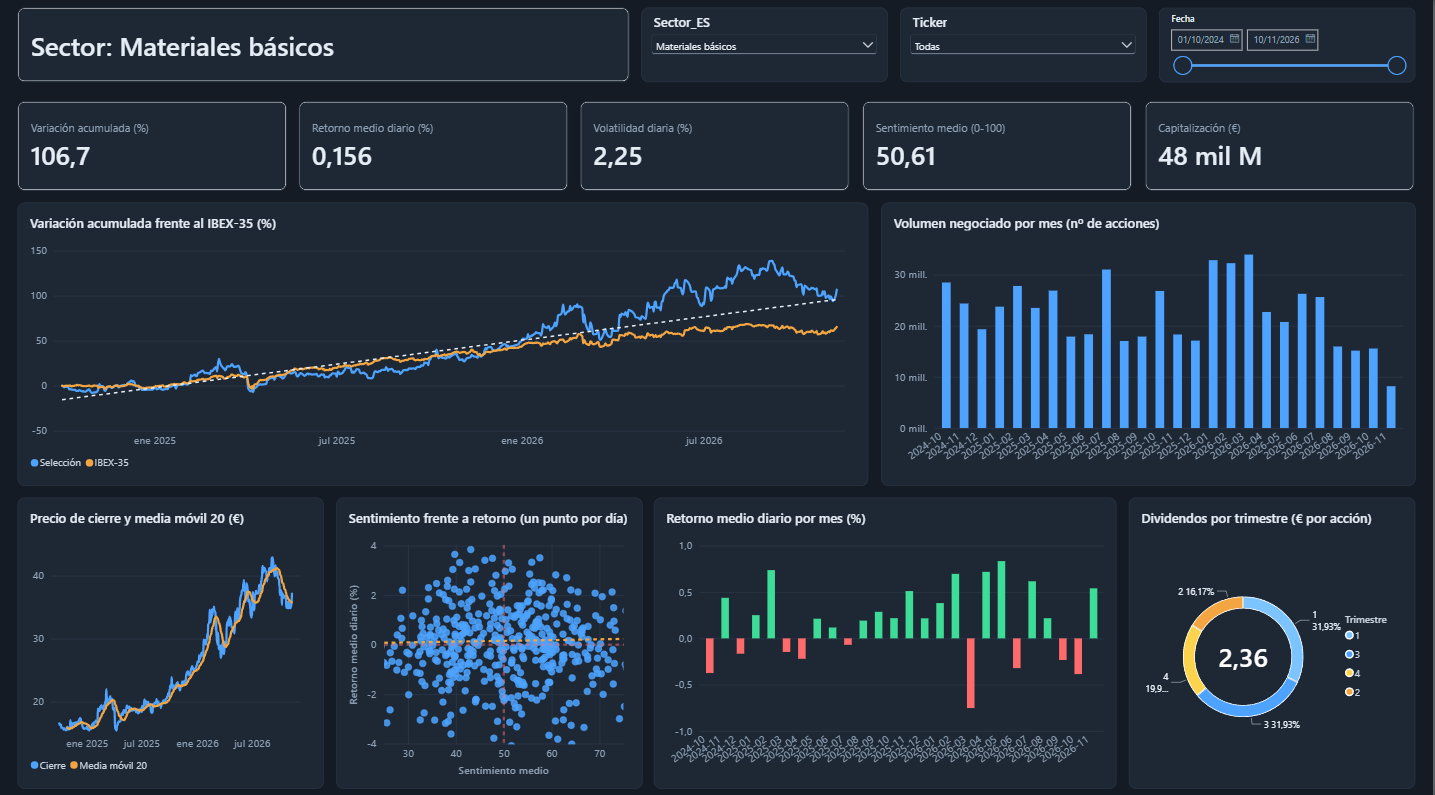

Layout of this report page (visuals, bound fields, positions):
{"tool":"powerbi","page":{"name":"Dashboard","canvas":[1920,1080],"ordinal":3},"visuals":[{"type":"slicer","fields":{"Values":["Empresa.Sector_ES"]},"box":[753.5,31.4,280.8,68],"z":0},{"type":"slicer","fields":{"Values":["Empresa.Ticker"]},"box":[1055.2,26.2,280.8,80.2],"z":1000},{"type":"slicer","fields":{"Values":["Fecha.Fecha"]},"box":[1360.5,19.2,280.8,95.9],"z":2000},{"type":"cardVisual","fields":{"Data":["Hechos.Variacion Acumulada"]},"box":[36.6,115.1,218,174.4],"z":3000},{"type":"cardVisual","fields":{"Data":["Hechos.Retorno Medio Diario"]},"box":[375,115.1,218,174.4],"z":4000},{"type":"cardVisual","fields":{"Data":["Hechos.Volatilidad Diaria"]},"box":[741.3,115.1,218,174.4],"z":5000},{"type":"cardVisual","fields":{"Data":["Hechos.Sentimiento Medio"]},"box":[1088.4,115.1,218,174.4],"z":6000},{"type":"cardVisual","fields":{"Data":["Hechos.Capitalizacion Total"]},"box":[1447.7,115.1,218,174.4],"z":7000},{"type":"lineChart","fields":{"Category":["Fecha.Fecha"],"Y":["Hechos.Var Acum Seleccion","Hechos.Var Acum IBEX"]},"box":[43.6,314,1058.7,376.7],"z":8000},{"type":"clusteredColumnChart","fields":{"Category":["Fecha.AnioMes"],"Y":["Sum(Hechos.Volume)"]},"box":[1133.7,314,736,376.7],"z":9000},{"type":"lineChart","fields":{"Category":["Fecha.Fecha"],"Y":["Avg(Hechos.Close)","Avg(Hechos.Media_Movil_20)"]},"box":[66.3,711.6,395.9,322.7],"z":10000},{"type":"scatterChart","fields":{"Category":["Fecha.Fecha"],"X":["Hechos.Sentimiento Medio"],"Y":["Hechos.Retorno Medio Diario"]},"box":[462.2,711.6,444.8,322.7],"z":11000},{"type":"clusteredColumnChart","fields":{"Category":["Fecha.AnioMes"],"Y":["Hechos.Retorno Medio Diario"]},"box":[907,711.6,610.5,322.7],"z":12000},{"type":"donutChart","fields":{"Category":["Fecha.Trimestre"],"Y":["Sum(Hechos.Dividends)"]},"box":[1517.4,711.6,385.5,322.7],"z":13000},{"type":"cardVisual","fields":{"Data":["Hechos.Titulo Dashboard"]},"box":[66.3,19.2,556.4,75],"z":13001}]}

Visuals, with their boxes in screenshot pixels (x1, y1, x2, y2), scaled from the page's 1920x1080 canvas onto the 1435x795 screenshot:
slicer - Empresa.Sector_ES: (563,23,773,73)
slicer - Empresa.Ticker: (789,19,999,78)
slicer - Fecha.Fecha: (1017,14,1227,85)
cardVisual - Hechos.Variacion Acumulada: (27,85,190,213)
cardVisual - Hechos.Retorno Medio Diario: (280,85,443,213)
cardVisual - Hechos.Volatilidad Diaria: (554,85,717,213)
cardVisual - Hechos.Sentimiento Medio: (813,85,976,213)
cardVisual - Hechos.Capitalizacion Total: (1082,85,1245,213)
lineChart - Fecha.Fecha x Hechos.Var Acum Seleccion: (33,231,824,508)
clusteredColumnChart - Fecha.AnioMes x Sum(Hechos.Volume): (847,231,1397,508)
lineChart - Fecha.Fecha x Avg(Hechos.Close): (50,524,345,761)
scatterChart - Fecha.Fecha x Hechos.Sentimiento Medio: (345,524,678,761)
clusteredColumnChart - Fecha.AnioMes x Hechos.Retorno Medio Diario: (678,524,1134,761)
donutChart - Fecha.Trimestre x Sum(Hechos.Dividends): (1134,524,1422,761)
cardVisual - Hechos.Titulo Dashboard: (50,14,465,69)
